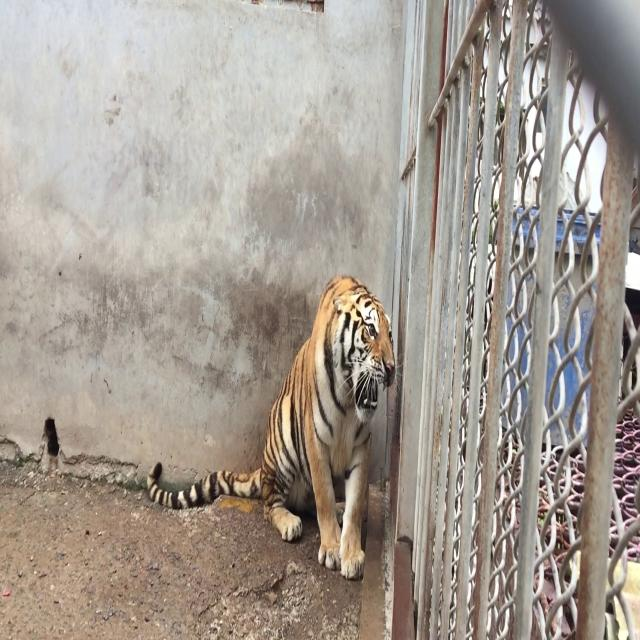Tiger: (145, 272, 398, 580)
